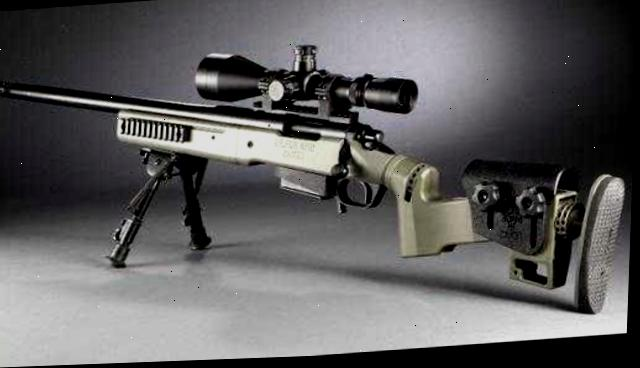rifle: (0, 0, 632, 348)
